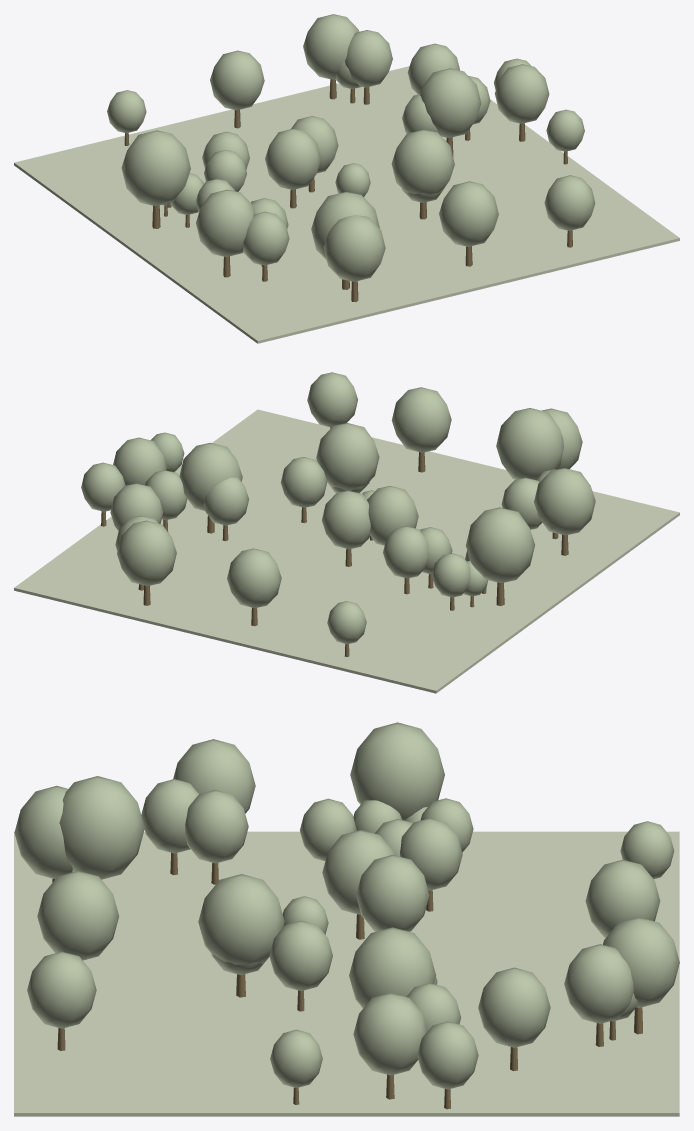
3 views of the same model, one above another, from view 1: azimuth 30°, elevation 25°; view 2: azimuth 150°, elevation 25°; view 3: azimuth 270°, elevation 25° (orthographic). The views are drawn at different scales.
Parts seen in each view (by area): view 1: terrain, lod-near-6, lod-near-10, lod-near-2, lod-near-20, lod-near-21, lod-near-14, lod-near-7, lod-near-25, lod-near-17, lod-near-26, lod-near-16 (+13 smaller); view 2: terrain, lod-near-6, lod-near-31, lod-near-10, lod-near-14, lod-near-26, lod-near-21, lod-near-20, lod-near-25, lod-near-19, lod-near-16, lod-near-7 (+13 smaller); view 3: terrain, lod-near-31, lod-near-6, lod-near-10, lod-near-21, lod-near-20, lod-near-17, lod-near-29, lod-near-19, lod-near-8, lod-near-26, lod-near-16 (+17 smaller).
Boxes of the visible parts, x1=… form: terrain: x1=14, y1=66, x2=679, y2=343; lod-near-6: x1=121, y1=130, x2=190, y2=206; lod-near-10: x1=391, y1=129, x2=454, y2=194; lod-near-2: x1=323, y1=215, x2=385, y2=281; lod-near-20: x1=420, y1=68, x2=481, y2=137; lod-near-21: x1=439, y1=181, x2=498, y2=246; lod-near-14: x1=196, y1=189, x2=255, y2=256; lod-near-7: x1=265, y1=128, x2=321, y2=189; lod-near-25: x1=210, y1=50, x2=264, y2=110; lod-near-17: x1=494, y1=64, x2=549, y2=123; lod-near-26: x1=303, y1=14, x2=359, y2=79; lod-near-16: x1=544, y1=175, x2=595, y2=230; terrain: x1=14, y1=409, x2=679, y2=693; lod-near-6: x1=465, y1=507, x2=534, y2=583; lod-near-31: x1=496, y1=408, x2=563, y2=479; lod-near-10: x1=316, y1=423, x2=379, y2=490; lod-near-14: x1=534, y1=468, x2=595, y2=535; lod-near-26: x1=117, y1=520, x2=176, y2=585; lod-near-21: x1=391, y1=387, x2=451, y2=452; lod-near-20: x1=179, y1=442, x2=242, y2=510; lod-near-25: x1=227, y1=548, x2=281, y2=607; lod-near-19: x1=322, y1=490, x2=370, y2=549; lod-near-16: x1=307, y1=372, x2=357, y2=427; lod-near-7: x1=367, y1=486, x2=418, y2=545; terrain: x1=14, y1=831, x2=679, y2=1116; lod-near-31: x1=59, y1=776, x2=144, y2=879; lod-near-6: x1=350, y1=722, x2=444, y2=820; lod-near-10: x1=198, y1=874, x2=284, y2=964; lod-near-21: x1=37, y1=871, x2=119, y2=960; lod-near-20: x1=349, y1=927, x2=436, y2=1008; lod-near-17: x1=353, y1=993, x2=427, y2=1075; lod-near-29: x1=478, y1=967, x2=550, y2=1047; lod-near-19: x1=356, y1=855, x2=429, y2=931; lod-near-8: x1=564, y1=944, x2=633, y2=1023; lod-near-26: x1=603, y1=917, x2=679, y2=1007; lod-near-16: x1=27, y1=951, x2=96, y2=1028.
Bounding box in the file's own units: 33.12 × 7.2 × 32.02.
